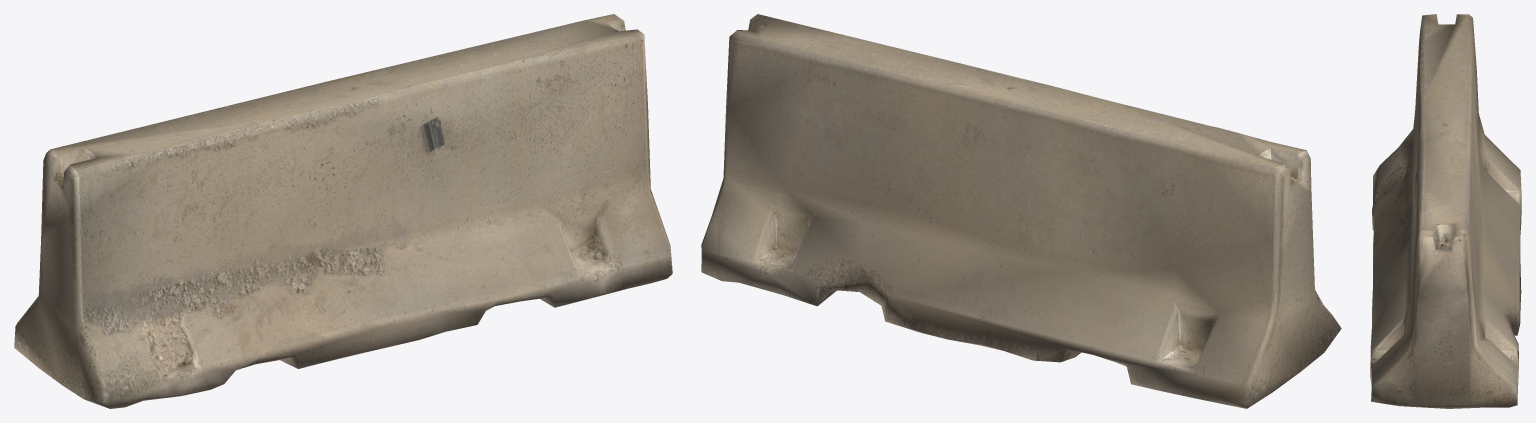
Rendered from ConcreteBarrier.obj.
3 views of the same model, side by side, from view 1: azimuth 30°, elevation 25°; view 2: azimuth 150°, elevation 25°; view 3: azimuth 270°, elevation 25° (orthographic). The views are drawn at different scales.
Parts seen in each view (by area): view 1: tlnwdhjfa_LOD0_TIER3_000; view 2: tlnwdhjfa_LOD0_TIER3_000; view 3: tlnwdhjfa_LOD0_TIER3_000.
Boxes of the visible parts, left/top/right/bottom form: tlnwdhjfa_LOD0_TIER3_000: left=14, top=14, right=672, bottom=408; tlnwdhjfa_LOD0_TIER3_000: left=701, top=14, right=1341, bottom=408; tlnwdhjfa_LOD0_TIER3_000: left=1370, top=14, right=1521, bottom=408.
Bounding box in the file's own units: 1.7 × 0.6507 × 0.4906.
Materials: 1 (1 with a texture image).
